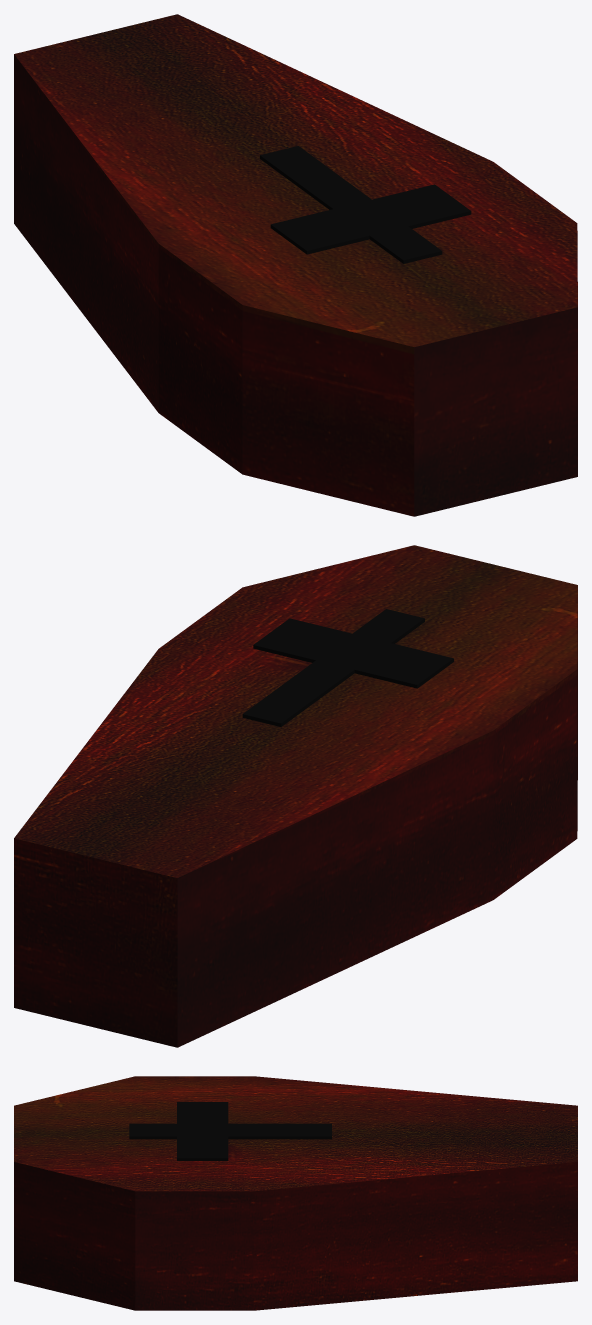
File: cercueil.fbx
The picture shows the model from 3 angles, top to bottom: view 1: azimuth 30°, elevation 25°; view 2: azimuth 150°, elevation 25°; view 3: azimuth 270°, elevation 25°; orthographic projection. The views are drawn at different scales.
Parts seen in each view (by area): view 1: pCube3; view 2: pCube3; view 3: pCube3.
Part boxes in pixels (bbox=[...]): pCube3: bbox=[14, 14, 577, 516]; pCube3: bbox=[14, 545, 577, 1047]; pCube3: bbox=[14, 1076, 577, 1310].
Bounding box in the file's own units: 97.11 × 49.59 × 201.
